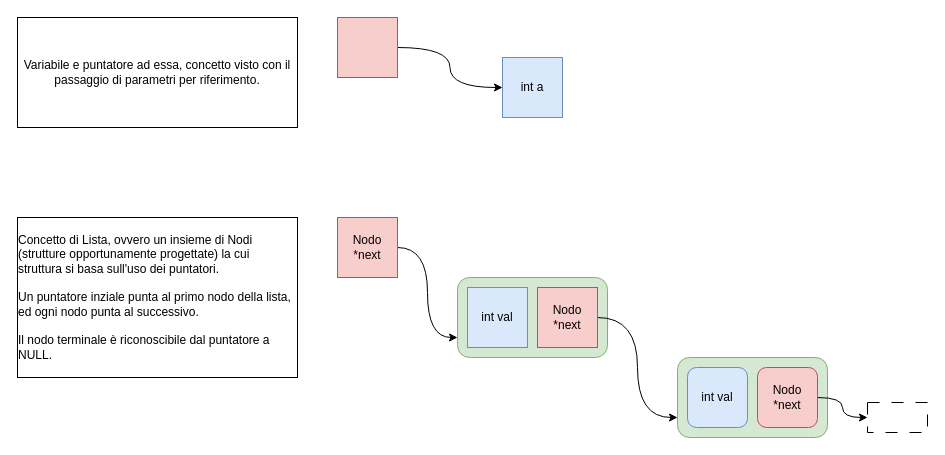
This 945x455 diagram has some shape labels left out. The shapes that lost their labels are listed below. From the top down, each one's box as (x1, y1, x2, y2) in pixels, then its label:
(336, 16, 398, 78): int *pa
(866, 402, 928, 432): null
